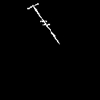treble_crochet: (27, 4, 58, 42)
